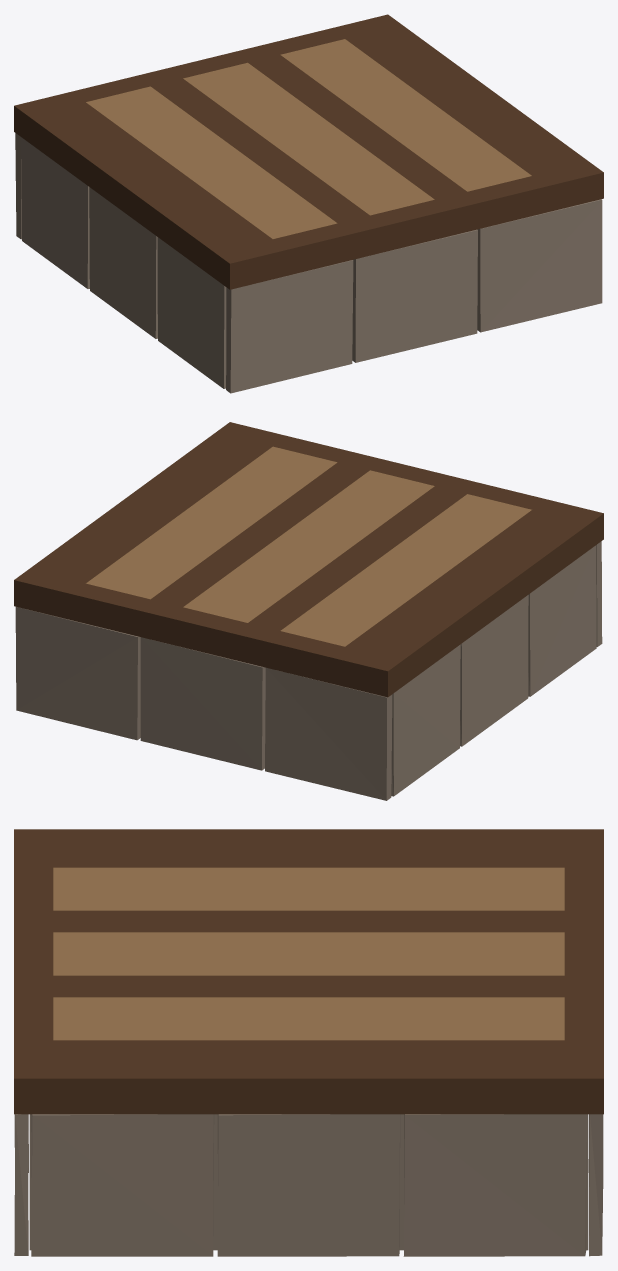
Rendered from foundation_lod1.glb.
3 renders of one model, top to bottom at view 1: azimuth 30°, elevation 25°; view 2: azimuth 150°, elevation 25°; view 3: azimuth 270°, elevation 25°, orthographic. The views are drawn at different scales.
Visible parts, largest first — view 1: foundation_mesh; view 2: foundation_mesh; view 3: foundation_mesh.
Boxes of the visible parts, x1,y1,x2,y2 form: foundation_mesh: (14, 14, 603, 393); foundation_mesh: (14, 422, 603, 800); foundation_mesh: (14, 829, 603, 1256).
Bounding box in the file's own units: 3 × 1 × 3.
